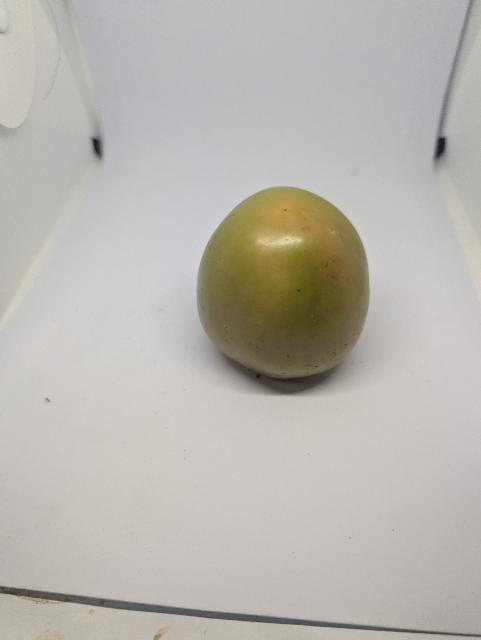breaker: (187, 186, 377, 383)
